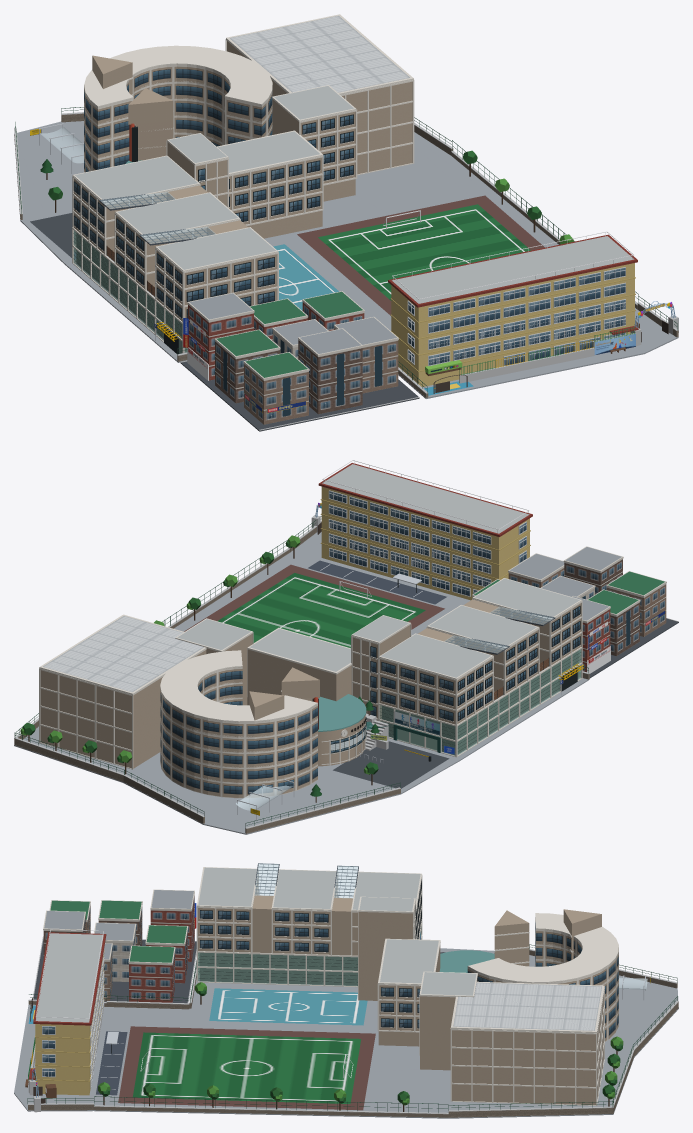
File: place_금호초등학교2.glb
3 views of the same model, one above another, from view 1: azimuth 30°, elevation 25°; view 2: azimuth 150°, elevation 25°; view 3: azimuth 270°, elevation 25° (orthographic). The views are drawn at different scales.
Visible parts, largest first — view 1: Campus_Exact14Pt_GroundSlab, Hero_CShaped_5F_MainRing, Merged_Yellow_Core, Merged_Field_SoccerTurf, Merged_WhiteGridRibs (×2), Merged_Cult_Roof, Merged_Gym_BrightRibRoof, Merged_WinGlass_Class, Merged_Yellow_Roof, Merged_WinGlass_Culture (×2), Merged_WinFrame_3D (×2), Merged_Cult_TaupeCores (+38 smaller); view 2: Hero_CShaped_5F_MainRing, Campus_Exact14Pt_GroundSlab, Merged_Gym_Core, Merged_WhiteGridRibs (×2), Merged_Field_SoccerTurf, Merged_Yellow_Core, Merged_Cult_Roof, Merged_Gym_BrightRibRoof, Merged_WinGlass_Class, Merged_Cult_TaupeCores, Merged_Yellow_Roof, Merged_CRing_WhiteBands (+41 smaller); view 3: Campus_Exact14Pt_GroundSlab, Merged_Field_SoccerTurf, Merged_Gym_Core, Merged_WhiteGridRibs (×2), Merged_Gym_BrightRibRoof, Merged_Cult_Roof, Merged_Field_TealCourt, Merged_Cult_TaupeCores, Merged_Field_TrackEdge, Merged_Yellow_Roof, Culture_MintGlass_east, Merged_Boundary_StoneWall (+38 smaller).
Boxes of the visible parts, x1,y1,x2,y2 form: Campus_Exact14Pt_GroundSlab: (14,121,678,398); Hero_CShaped_5F_MainRing: (84,64,272,172); Merged_Yellow_Core: (391,263,634,386); Merged_Field_SoccerTurf: (318,204,530,300); Merged_WhiteGridRibs (×2): (72,39,414,353); Merged_Cult_Roof: (75,156,275,269); Merged_Gym_BrightRibRoof: (229,15,409,92); Merged_WinGlass_Class: (408,268,625,365); Merged_Yellow_Roof: (392,236,634,303); Merged_WinGlass_Culture (×2): (74,115,353,317); Merged_WinFrame_3D (×2): (73,114,353,318); Merged_Cult_TaupeCores: (73,179,276,321); Hero_CShaped_5F_MainRing: (160,667,317,798); Campus_Exact14Pt_GroundSlab: (14,532,589,834); Merged_Gym_Core: (40,650,206,768); Merged_WhiteGridRibs (×2): (39,598,582,769); Merged_Field_SoccerTurf: (217,573,425,648); Merged_Yellow_Core: (321,486,529,600); Merged_Cult_Roof: (381,578,579,677); Merged_Gym_BrightRibRoof: (43,616,203,692); Merged_WinGlass_Class: (329,491,526,595); Merged_Cult_TaupeCores: (379,599,581,724); Merged_Yellow_Roof: (322,464,529,533); Merged_CRing_WhiteBands: (160,650,317,782); Campus_Exact14Pt_GroundSlab: (14,948,678,1118); Merged_Field_SoccerTurf: (133,1032,361,1103); Merged_Gym_Core: (452,994,603,1104); Merged_WhiteGridRibs (×2): (196,868,604,1105); Merged_Gym_BrightRibRoof: (453,982,601,1030); Merged_Cult_Roof: (198,867,420,909); Merged_Field_TealCourt: (209,988,367,1025); Merged_Cult_TaupeCores: (198,878,357,955); Merged_Field_TrackEdge: (118,1026,375,1110); Merged_Yellow_Roof: (35,933,103,1022); Culture_MintGlass_east: (198,952,357,986); Merged_Boundary_StoneWall: (28,950,678,1117).
Size of the model in its own units: 94.17 by 22.12 by 146.
99 materials, 50 textured.
